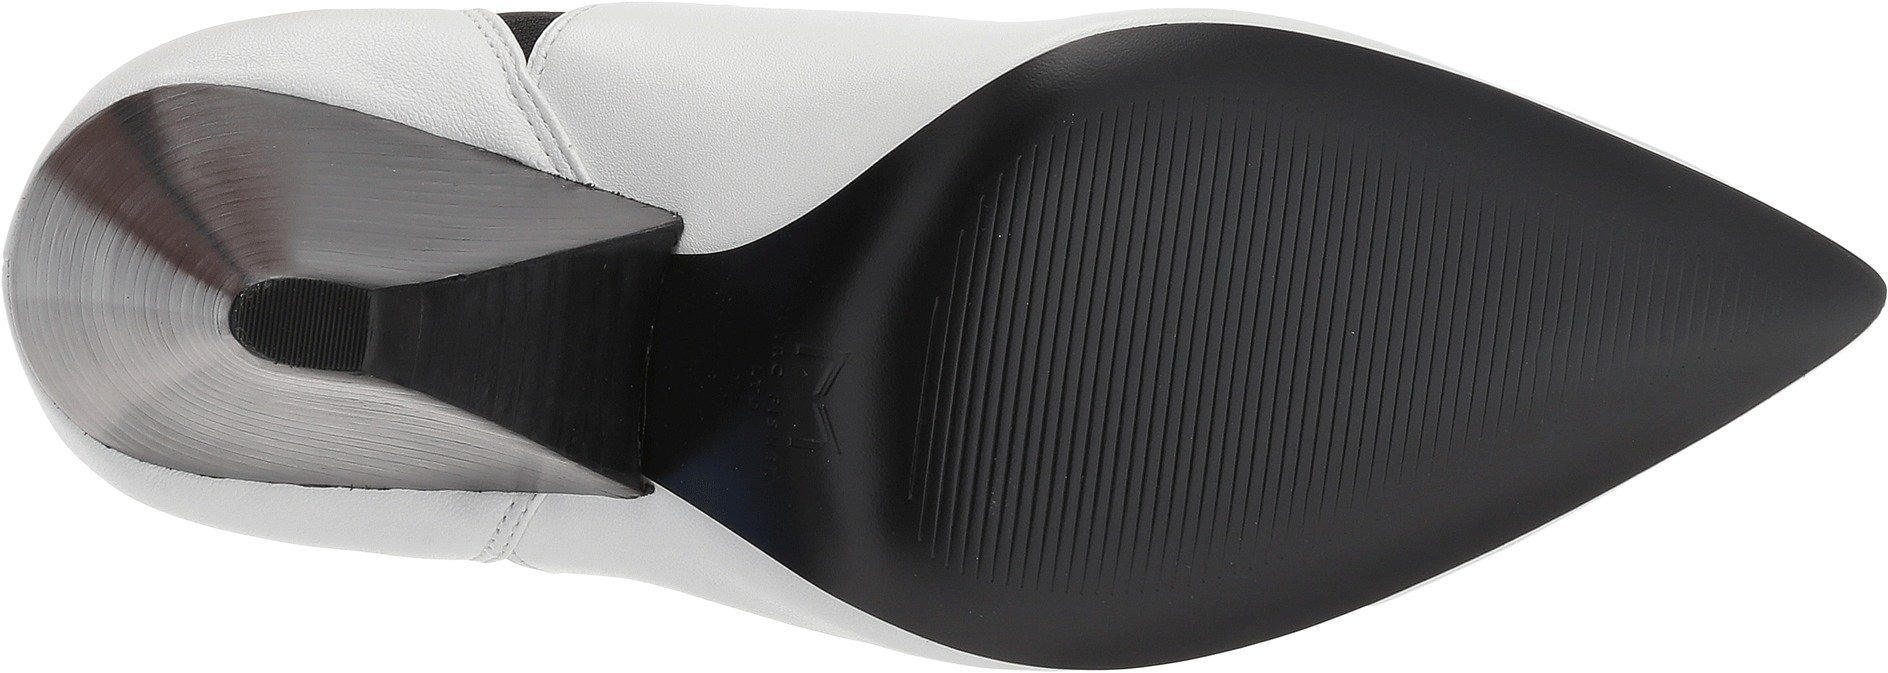line: (986, 171, 1356, 526), (1375, 201, 1585, 405), (1613, 268, 1721, 372), (270, 277, 368, 374)
